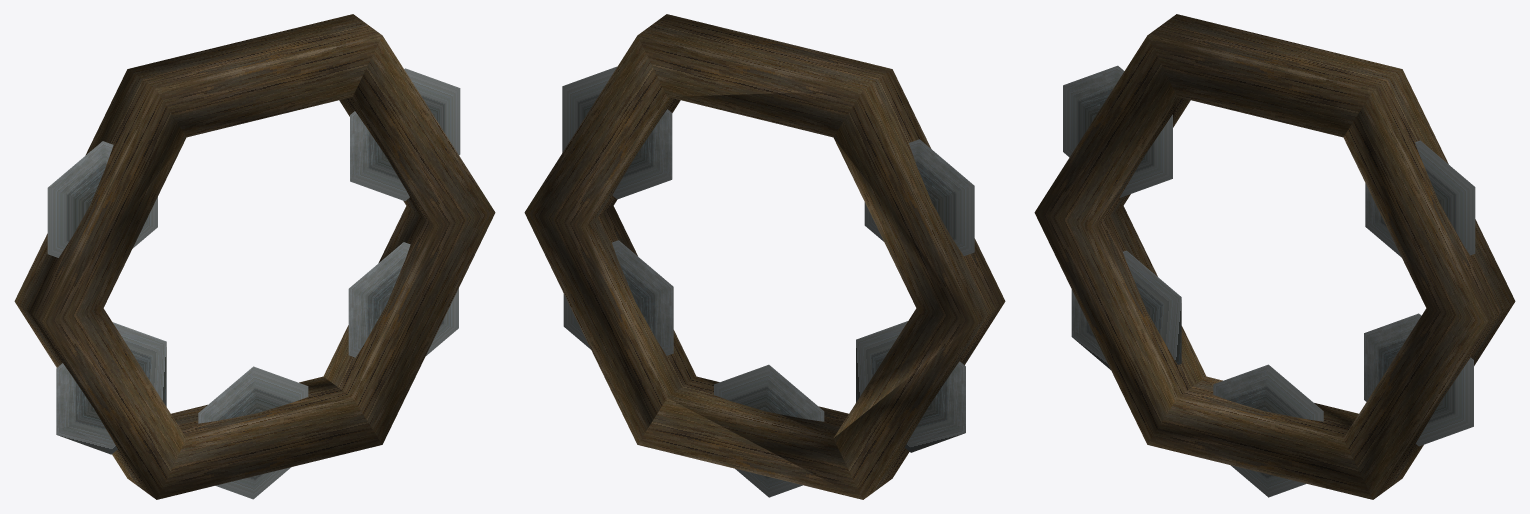
The picture shows the model from 3 angles, left to right: view 1: azimuth 30°, elevation 25°; view 2: azimuth 150°, elevation 25°; view 3: azimuth 330°, elevation 25°; orthographic projection.
Visible parts, largest first — view 1: it137; view 2: it137; view 3: it137.
Boxes of the visible parts, left/top/right/bottom form: it137: left=14, top=14, right=495, bottom=499; it137: left=524, top=14, right=1005, bottom=499; it137: left=1034, top=14, right=1515, bottom=499.
Bounding box in the file's own units: 0.5899 × 0.5546 × 0.0663.
2 materials, 2 textured.
